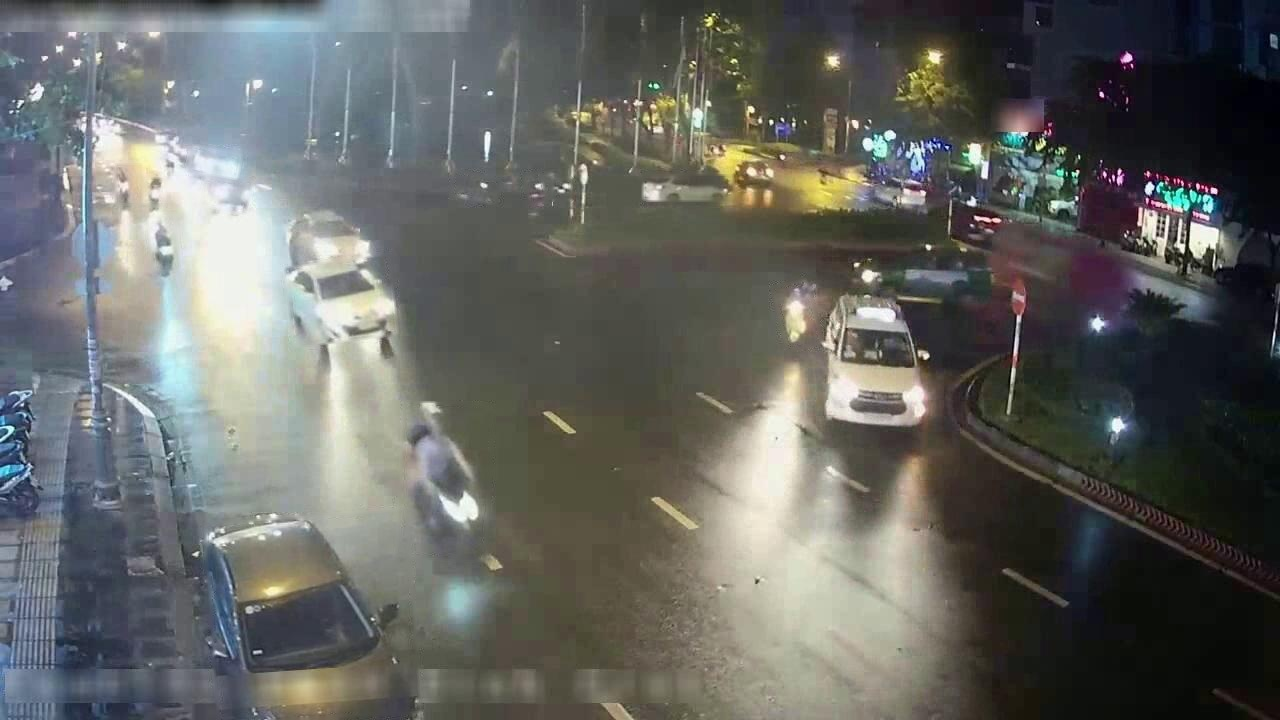Car: (201, 513, 414, 719), (822, 293, 929, 427), (285, 262, 396, 352), (851, 245, 992, 302), (286, 210, 371, 267), (641, 167, 728, 204), (949, 201, 1003, 247), (191, 147, 241, 178), (211, 181, 248, 215), (734, 160, 773, 187)
Motorcycle: (0, 461, 40, 516)
Motorcyclist: (406, 401, 487, 554), (782, 281, 818, 345), (451, 176, 498, 205), (152, 217, 175, 272), (113, 166, 131, 206), (548, 179, 570, 211), (146, 173, 164, 209), (527, 176, 545, 202)
Sign: (1011, 284, 1026, 315)
